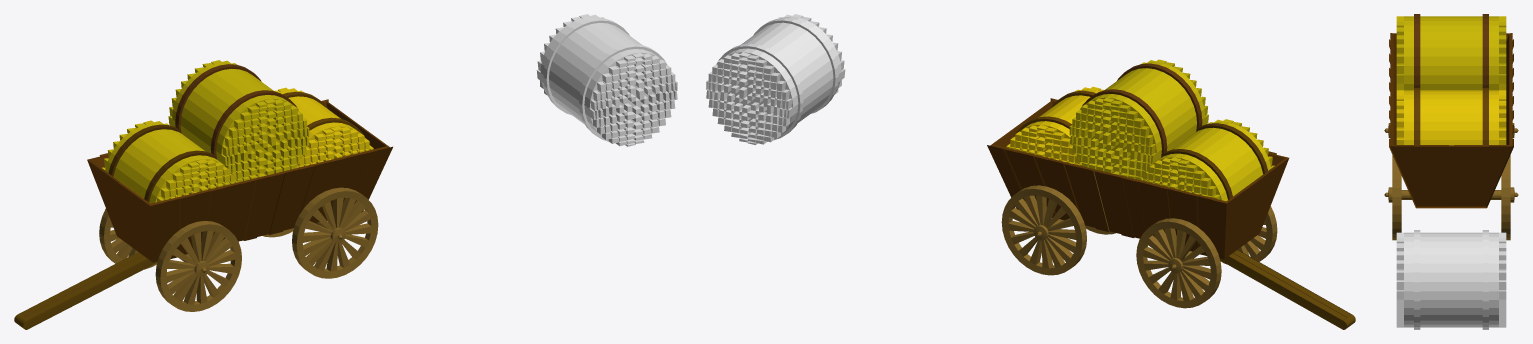
Rendered from woz.fbx.
The picture shows the model from 3 angles, left to right: view 1: azimuth 30°, elevation 25°; view 2: azimuth 150°, elevation 25°; view 3: azimuth 270°, elevation 25°; orthographic projection. The views are drawn at different scales.
Parts seen in each view (by area): view 1: woz.001, woz, Cylinder.002, snop2, snop3, snop1, Circle.001, Cylinder.003, obw2, obw3, obw1; view 2: woz.001, woz, Cylinder.002, snop2, snop3, snop1, Circle.001, Cylinder.003, obw2, obw3, obw1; view 3: Cylinder.002, woz.001, snop2, snop1, woz, Cylinder.003, obw2, obw1.
Part boxes in pixels (bbox=[...]): woz.001: bbox=[87, 99, 392, 262]; woz: bbox=[99, 180, 378, 311]; Cylinder.002: bbox=[536, 14, 677, 146]; snop2: bbox=[168, 60, 309, 181]; snop3: bbox=[102, 120, 238, 203]; snop1: bbox=[274, 87, 373, 168]; Circle.001: bbox=[14, 252, 157, 329]; Cylinder.003: bbox=[543, 18, 666, 141]; obw2: bbox=[175, 64, 298, 159]; obw3: bbox=[108, 124, 216, 202]; obw1: bbox=[282, 91, 365, 137]; woz.001: bbox=[987, 98, 1289, 259]; woz: bbox=[1001, 171, 1277, 308]; Cylinder.002: bbox=[706, 14, 845, 144]; snop2: bbox=[1069, 59, 1208, 179]; snop3: bbox=[1139, 119, 1274, 201]; snop1: bbox=[1006, 86, 1103, 166]; Circle.001: bbox=[1219, 250, 1355, 329]; Cylinder.003: bbox=[717, 18, 838, 139]; obw2: bbox=[1080, 63, 1202, 157]; obw3: bbox=[1161, 123, 1267, 199]; obw1: bbox=[1015, 90, 1095, 135]; Cylinder.002: bbox=[1396, 232, 1506, 327]; woz.001: bbox=[1389, 33, 1513, 208]; snop2: bbox=[1396, 16, 1506, 90]; snop1: bbox=[1396, 90, 1506, 145]; woz: bbox=[1384, 123, 1518, 240]; Cylinder.003: bbox=[1414, 230, 1488, 329]; obw2: bbox=[1414, 14, 1488, 87]; obw1: bbox=[1414, 88, 1488, 144].
Size of the model in its own units: 1157 by 345 by 221.
